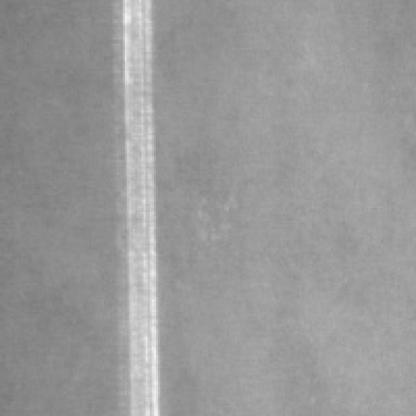scratches: (119, 0, 166, 412)
